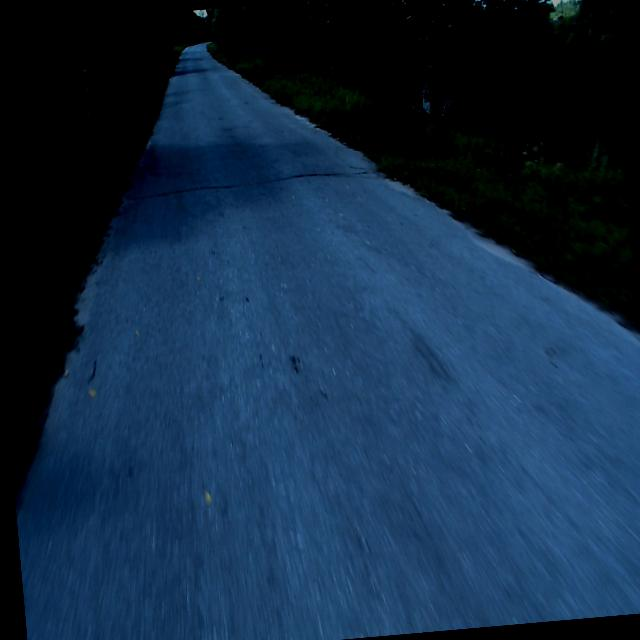road: (15, 43, 640, 640)
